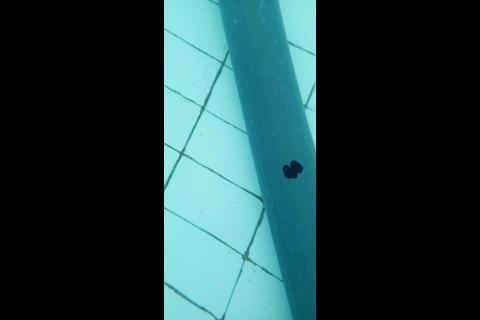kebocoran: (281, 158, 303, 179)
